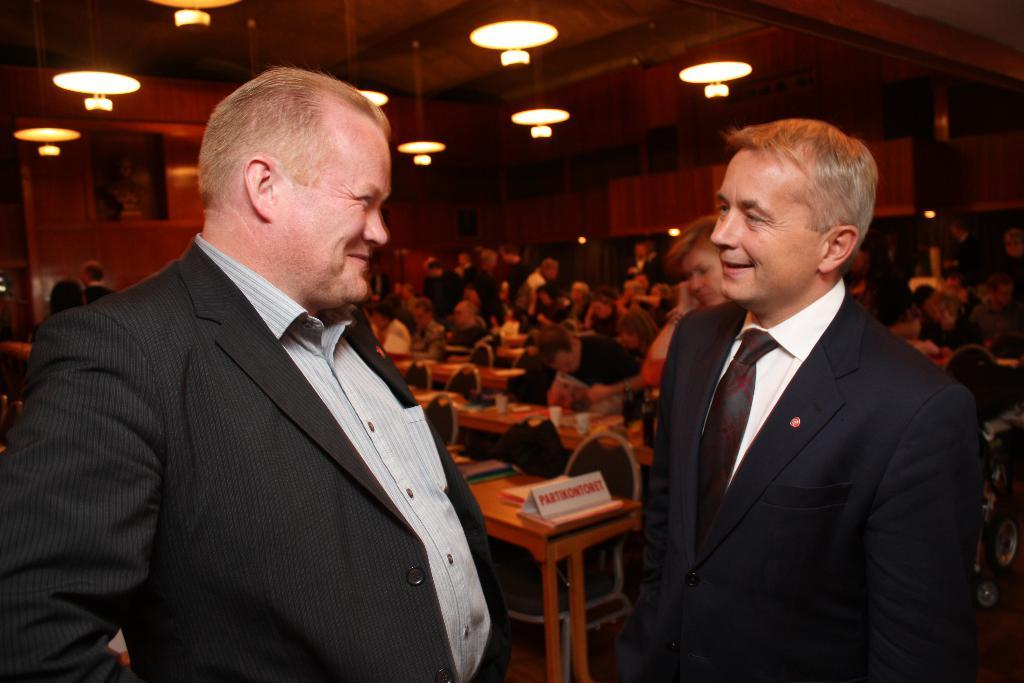Sem Máscara: (275, 119, 394, 303), (715, 142, 820, 310), (681, 246, 720, 305)
